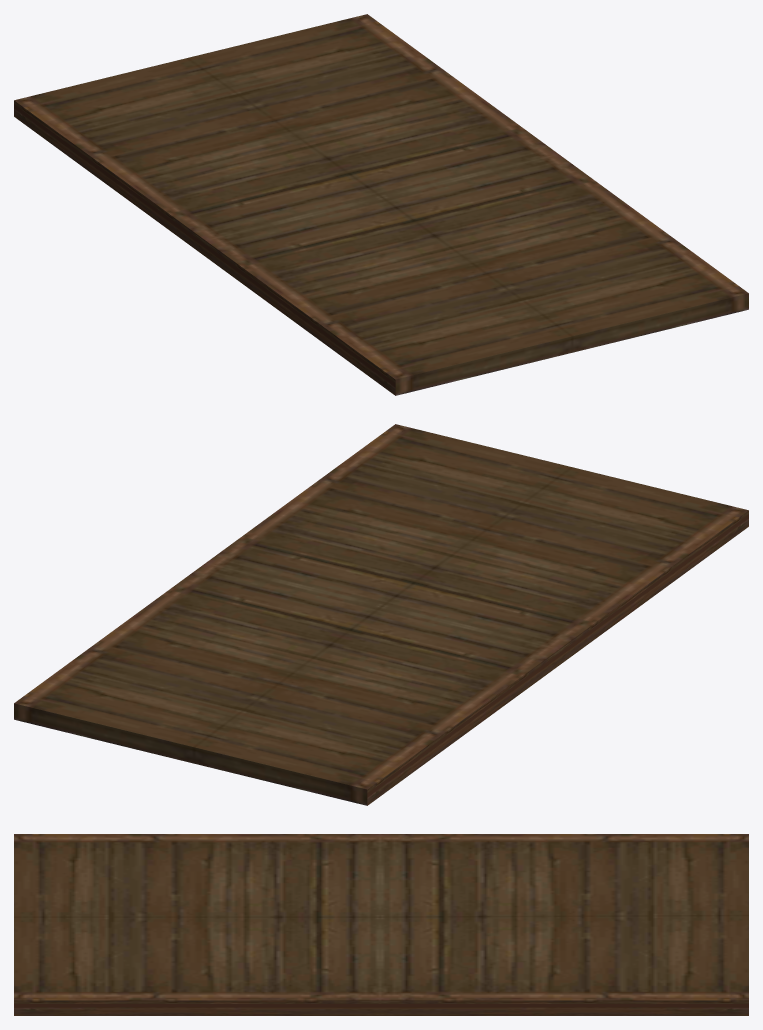
File: Yland1_bj_20 Yland1.FBX
The picture shows the model from 3 angles, top to bottom: view 1: azimuth 30°, elevation 25°; view 2: azimuth 150°, elevation 25°; view 3: azimuth 270°, elevation 25°; orthographic projection. The views are drawn at different scales.
Parts seen in each view (by area): view 1: Yland1_bj_20 Yland1; view 2: Yland1_bj_20 Yland1; view 3: Yland1_bj_20 Yland1.
Part boxes in pixels (x1=…): Yland1_bj_20 Yland1: x1=14, y1=14, x2=748, y2=395; Yland1_bj_20 Yland1: x1=14, y1=424, x2=748, y2=805; Yland1_bj_20 Yland1: x1=14, y1=834, x2=748, y2=1015.
Size of the model in its own units: 1.68 by 0.0743 by 3.15.
